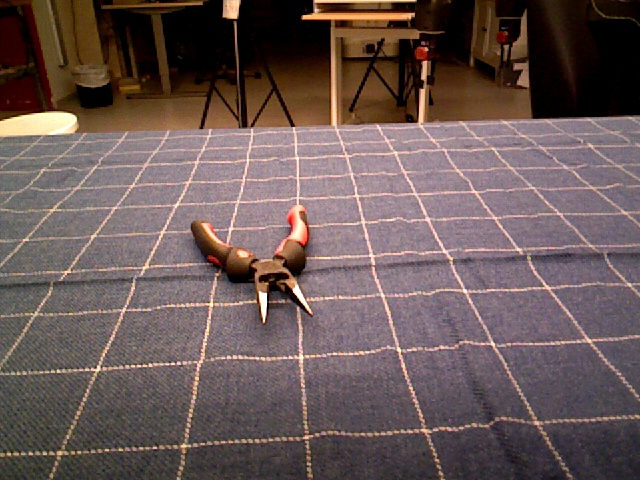plier1: (191, 205, 316, 325)
